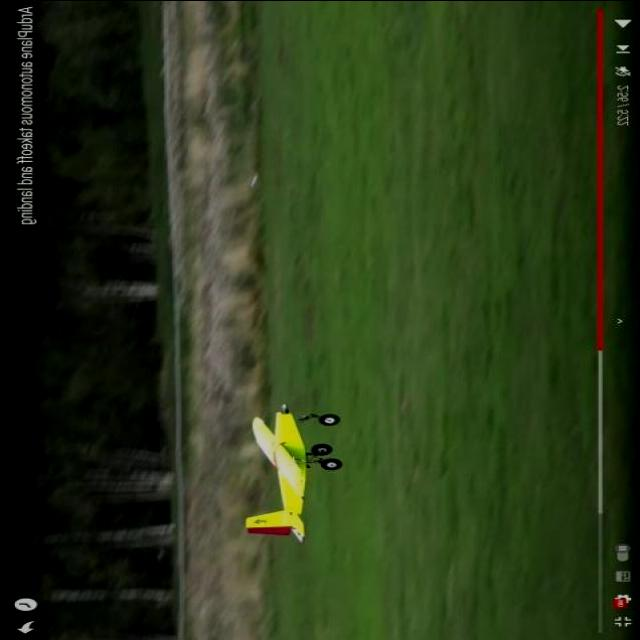plane: (242, 402, 342, 544)
